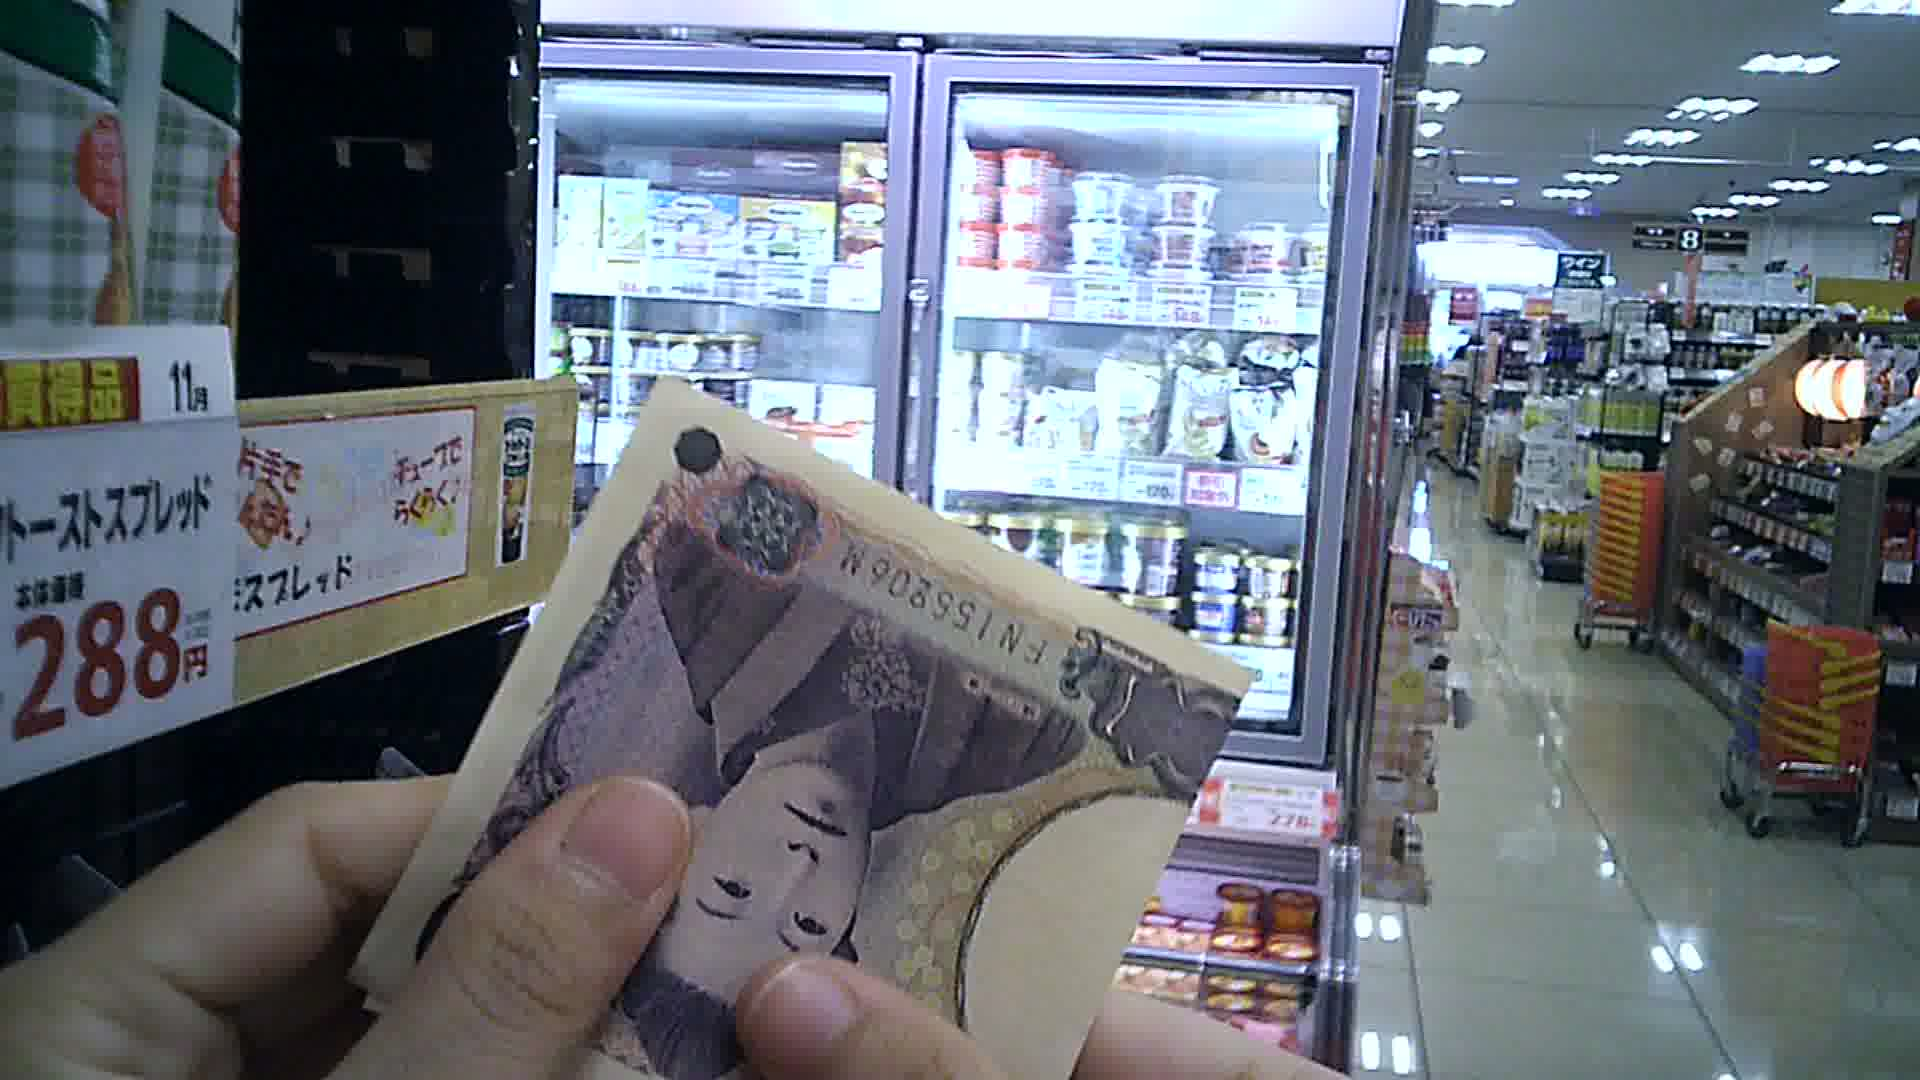5,000 Yen: (363, 376, 1247, 1069)
